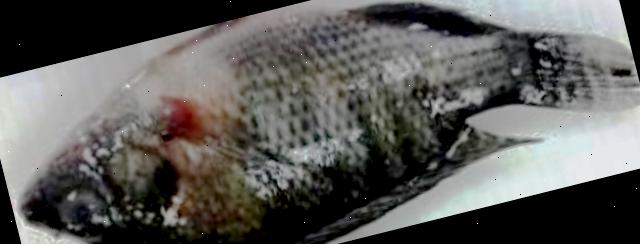Tilapia Lake Virus -TiLV-: (22, 5, 640, 244)
